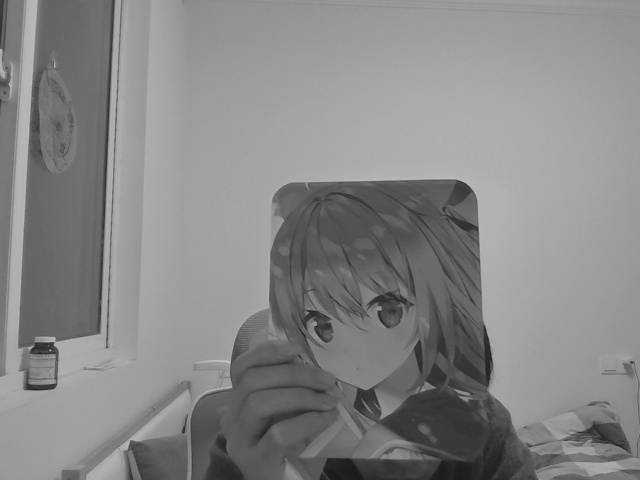face: (291, 253, 429, 399)
